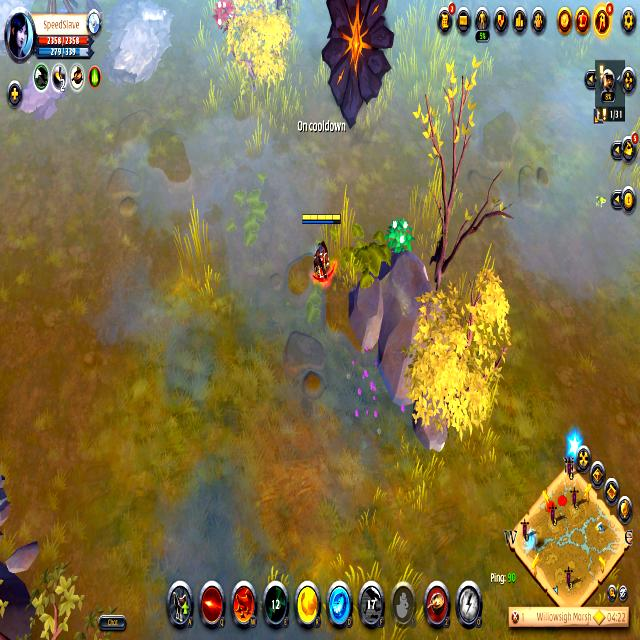hide: (382, 214, 414, 268), (208, 0, 239, 40)
red: (300, 207, 346, 303)
